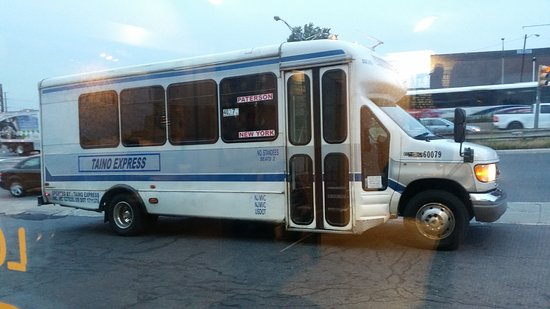bus: (38, 38, 507, 252)
